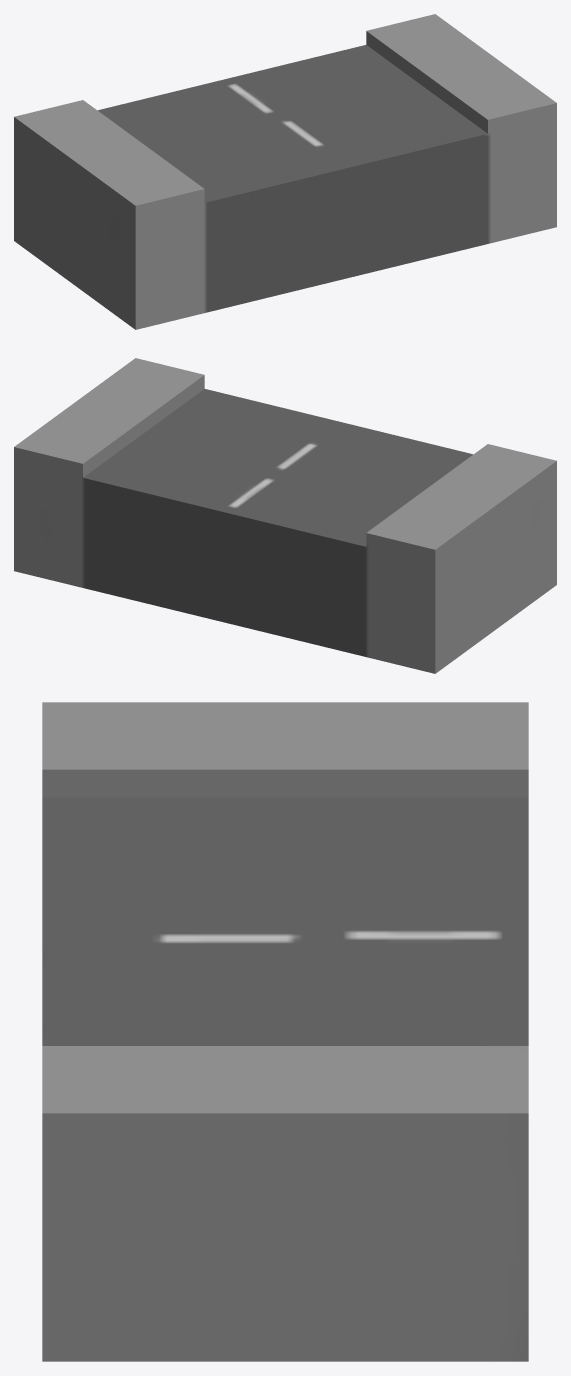
Rendered from road.glb.
The picture shows the model from 3 angles, top to bottom: view 1: azimuth 30°, elevation 25°; view 2: azimuth 150°, elevation 25°; view 3: azimuth 270°, elevation 25°; orthographic projection. The views are drawn at different scales.
Parts seen in each view (by area): view 1: ground; view 2: ground; view 3: ground.
Part boxes in pixels (bbox=[...]): ground: bbox=[14, 14, 556, 329]; ground: bbox=[14, 358, 556, 673]; ground: bbox=[42, 702, 528, 1361].
Bounding box in the file's own units: 4 × 1.13 × 2.
Materials: 1 (1 with a texture image).
